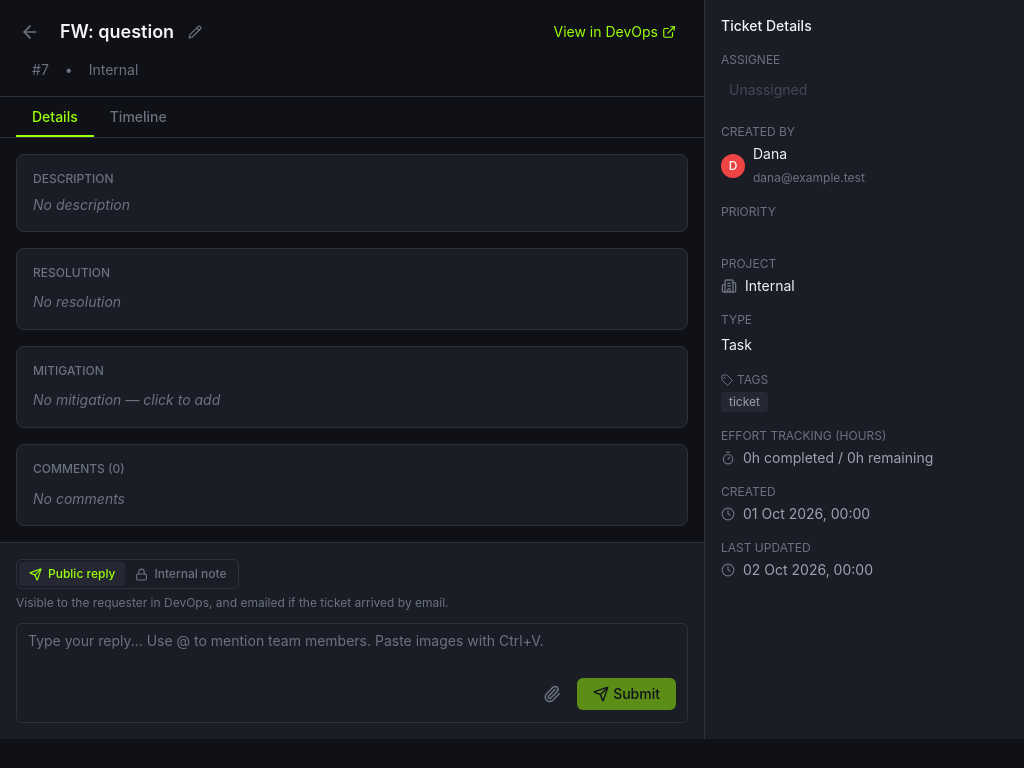
TicketDetail title editing › abandons the edit on Escape without saving
The image size is (1024, 768).
Click the button named "Edit title".
click(195, 32)  # box [182,19,208,45]
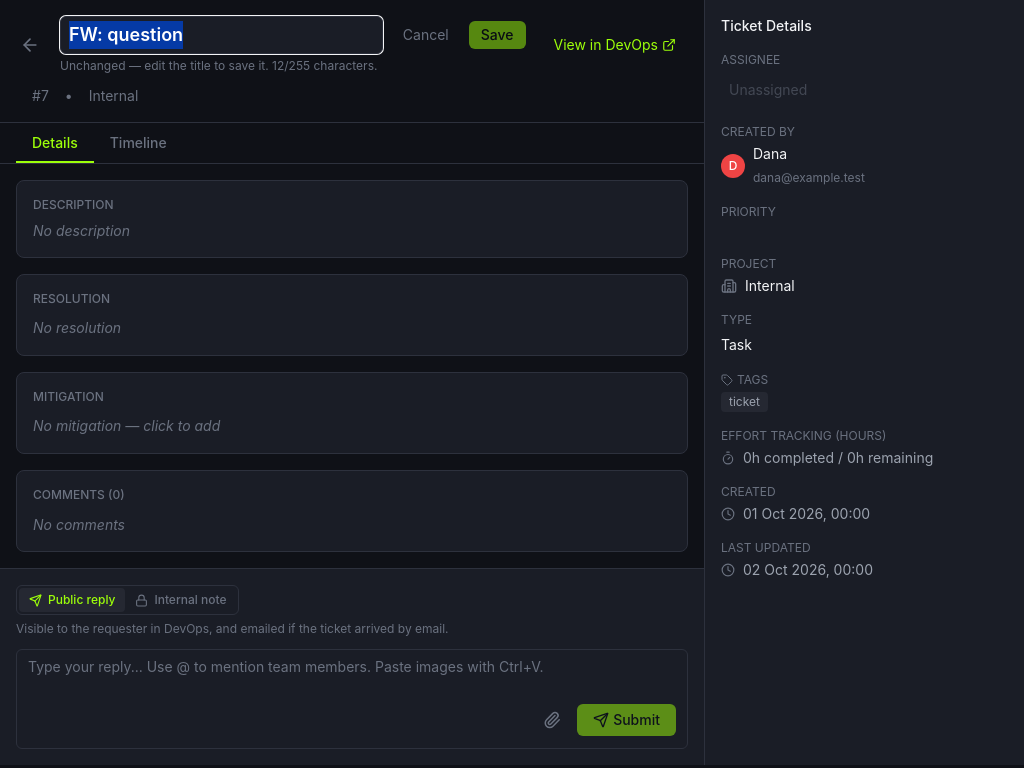
Replace the text in the field named "Ticket title" with "Something else" at x=221, y=35, box [60,16,383,54]
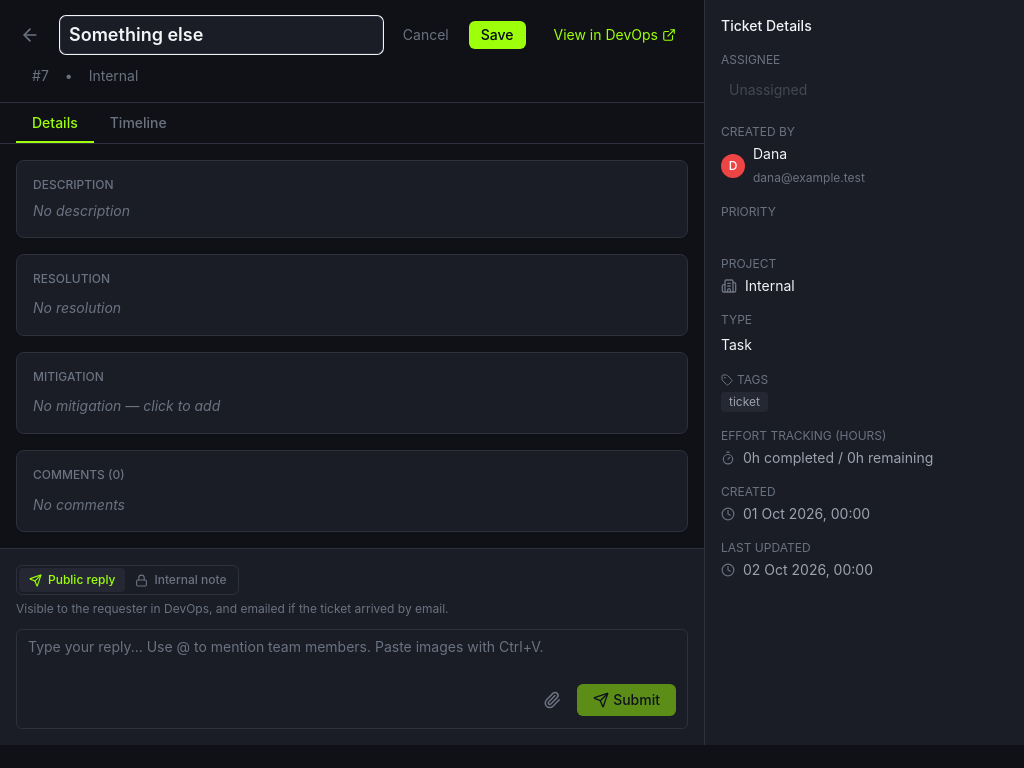
Press Escape in the field named "Ticket title", box [60,16,383,54]
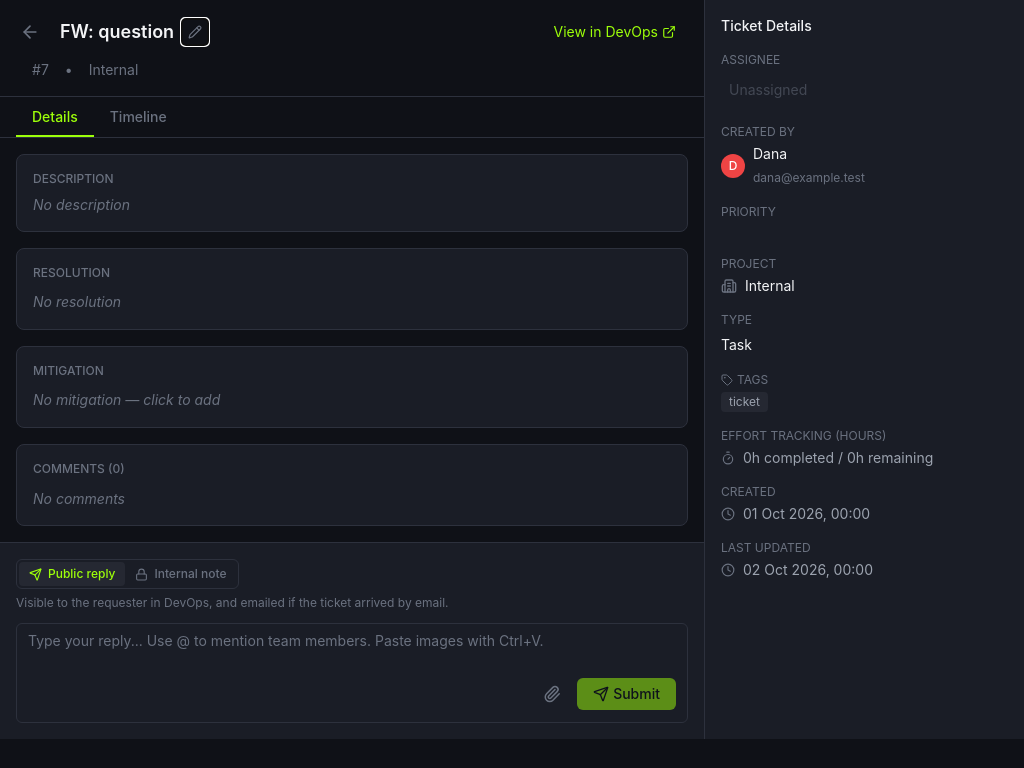
Check: the text "FW: question" is shown, box [60,18,174,46]
